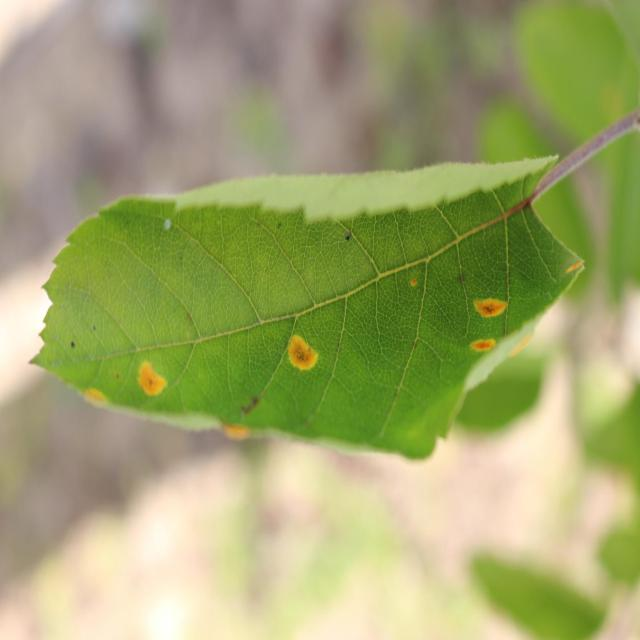Rust: (270, 326, 338, 382), (138, 342, 167, 414), (465, 282, 511, 325), (65, 382, 113, 422), (215, 415, 259, 447), (458, 330, 502, 357), (408, 271, 427, 300), (564, 259, 586, 283)
